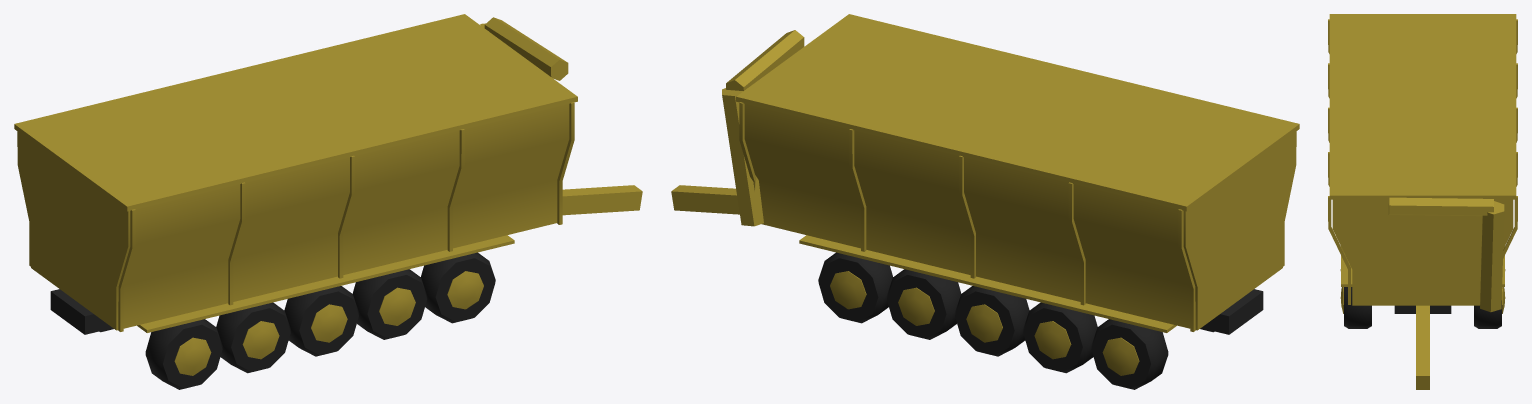
File: SM_Prop_farm_chaser_0_LOD1.glb
3 views of the same model, side by side, from view 1: azimuth 30°, elevation 25°; view 2: azimuth 150°, elevation 25°; view 3: azimuth 270°, elevation 25° (orthographic). The views are drawn at different scales.
Parts seen in each view (by area): view 1: SM_Prop_farm_chaser_0_LOD1; view 2: SM_Prop_farm_chaser_0_LOD1; view 3: SM_Prop_farm_chaser_0_LOD1.
Part boxes in pixels (x1,y1,x2,y2): SM_Prop_farm_chaser_0_LOD1: [14, 14, 642, 389]; SM_Prop_farm_chaser_0_LOD1: [671, 14, 1299, 389]; SM_Prop_farm_chaser_0_LOD1: [1328, 14, 1517, 389].
Size of the model in its own units: 9.63 by 3.44 by 3.36.
